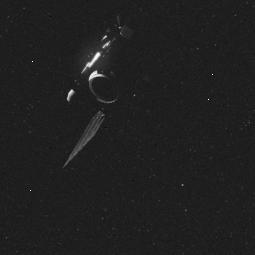proba_3_csc: (61, 11, 143, 151)
